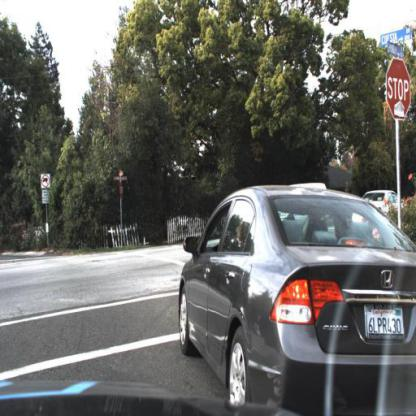car: (171, 186, 416, 415), (360, 176, 411, 216)
